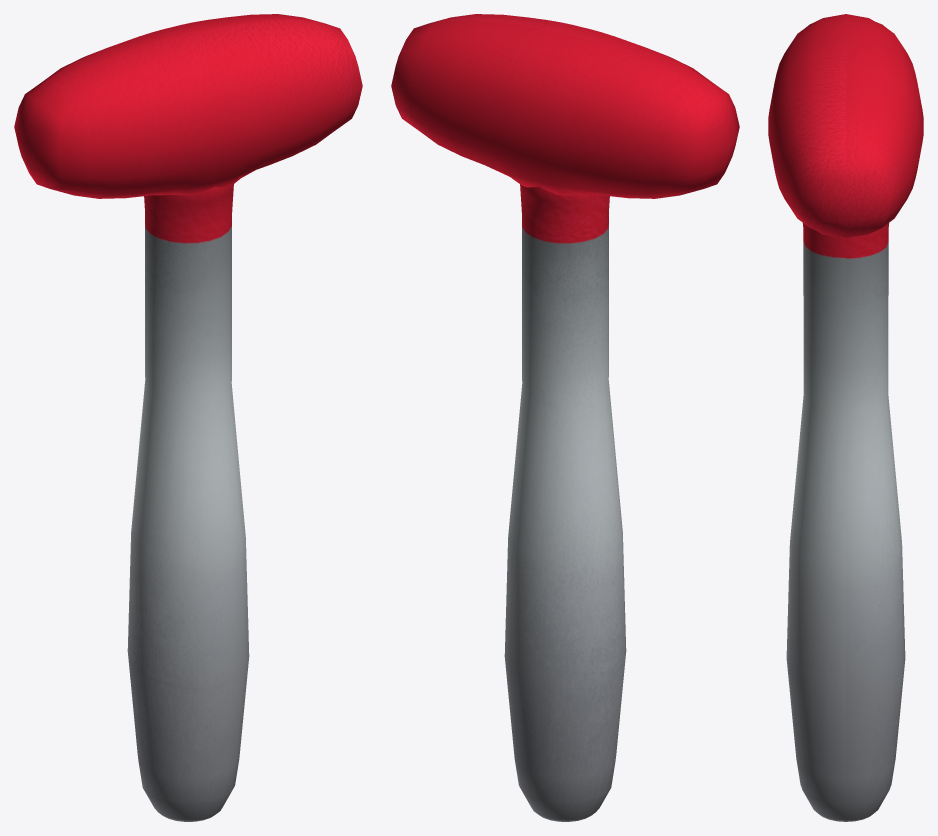
Rendered from Hammer.fbx.
3 views of the same model, side by side, from view 1: azimuth 30°, elevation 25°; view 2: azimuth 150°, elevation 25°; view 3: azimuth 270°, elevation 25° (orthographic). The views are drawn at different scales.
Parts seen in each view (by area): view 1: pCylinder2; view 2: pCylinder2; view 3: pCylinder2.
Boxes of the visible parts, bbox=[...] form: pCylinder2: bbox=[14, 14, 362, 821]; pCylinder2: bbox=[391, 14, 739, 821]; pCylinder2: bbox=[768, 14, 923, 821].
Size of the model in its own units: 1.07 by 2.45 by 0.455.
